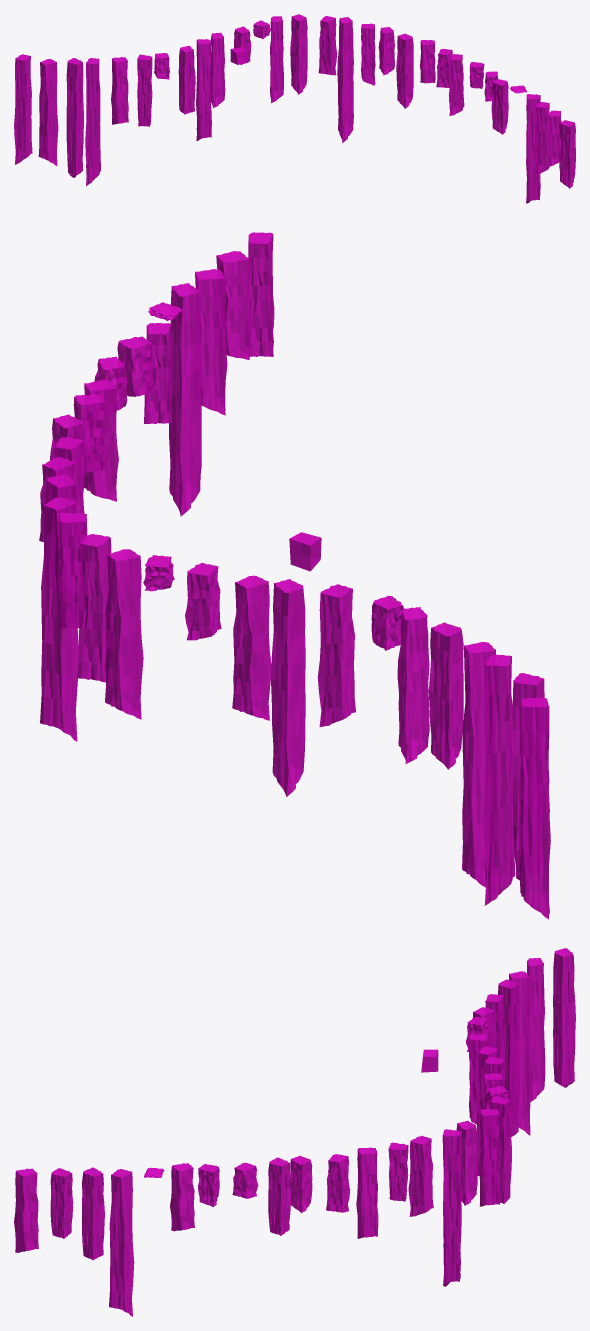
The model's file is amethystpath.fbx.
3 views of the same model, one above another, from view 1: azimuth 30°, elevation 25°; view 2: azimuth 150°, elevation 25°; view 3: azimuth 270°, elevation 25° (orthographic). The views are drawn at different scales.
Visible parts, largest first — view 1: Cube, Base Polemesh; view 2: Cube, Base Polemesh; view 3: Cube.
Boxes of the visible parts, bbox=[...] form: Cube: bbox=[14, 14, 575, 203]; Base Polemesh: bbox=[230, 47, 248, 64]; Cube: bbox=[39, 232, 550, 919]; Base Polemesh: bbox=[289, 532, 321, 571]; Cube: bbox=[14, 948, 575, 1316].
Size of the model in its own units: 6380 by 2165 by 6561.
